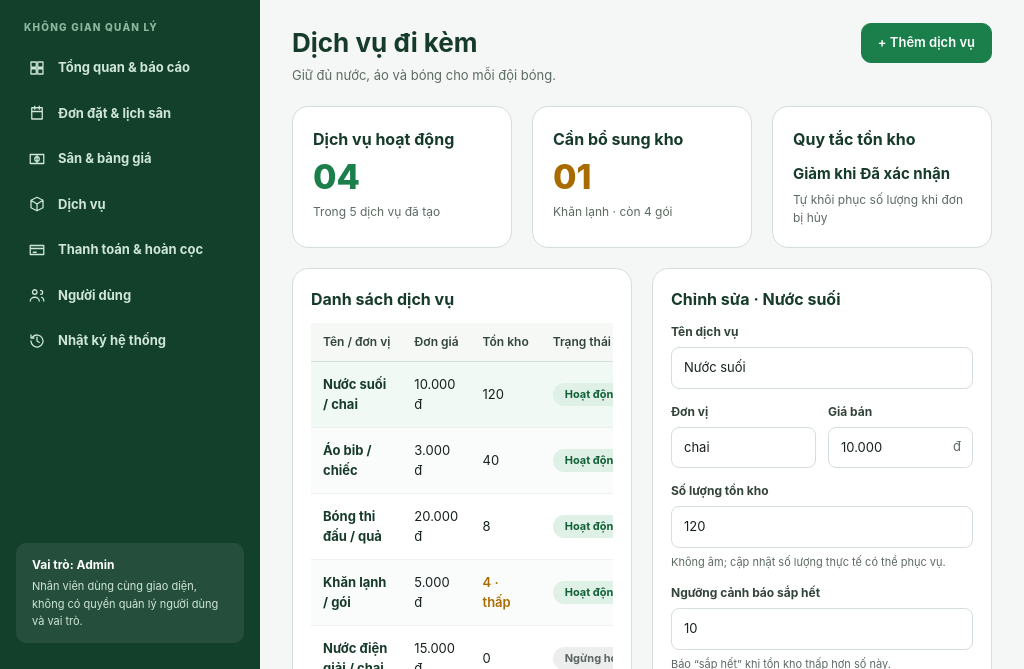
Admin Dịch vụ - sửa và thêm › server báo trùng tên → hiện lỗi từ server
The image size is (1024, 669).
Check: the heading "Chỉnh sửa · Nước suối" is shown, box [671,289,840,309]
Replace the text in the field labelled "Tên dịch vụ" with "Áo bib": (822,368) [671,347,973,388]
(page scrolled)
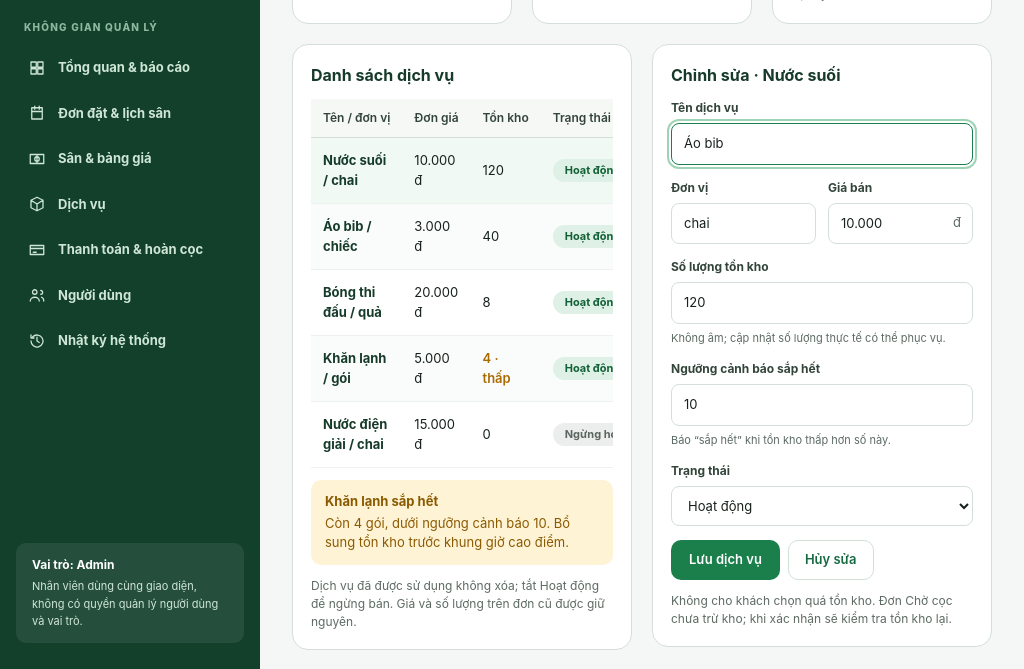
Click the button "Lưu dịch vụ": (725,560) [671,540,780,580]
(page scrolled)
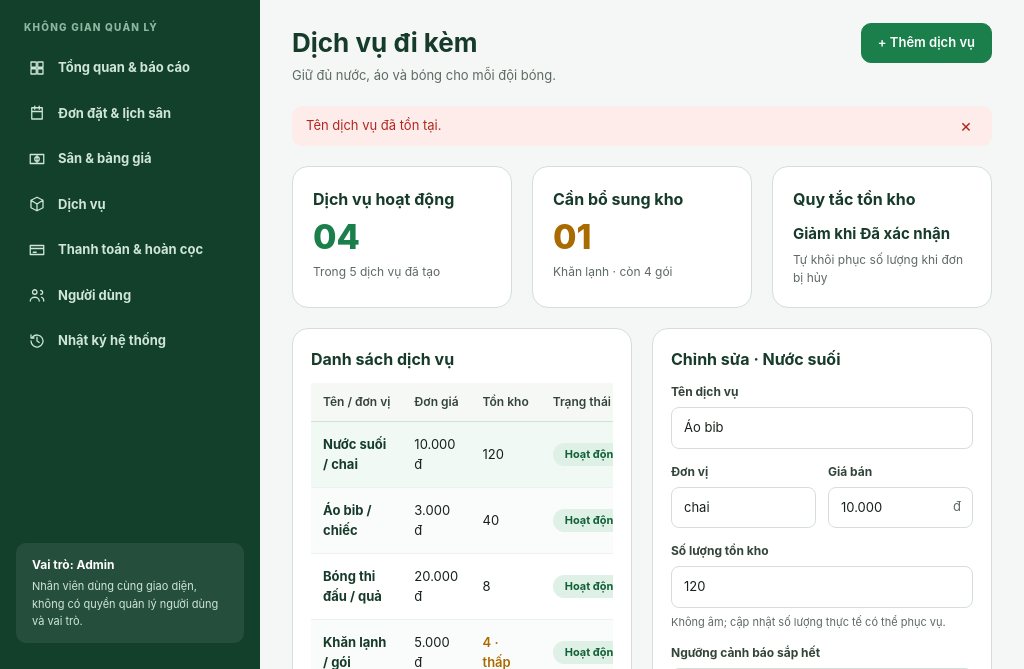
Check: the text "Tên dịch vụ đã tồn tại." is shown, box [306,116,442,136]
